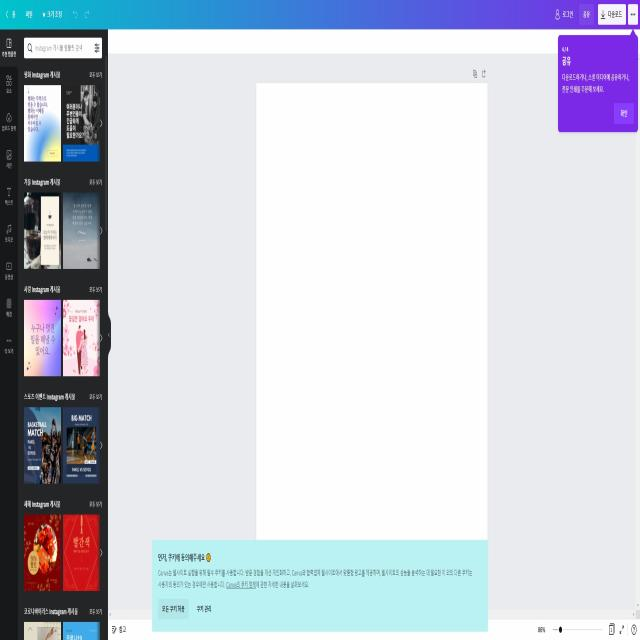menu-bar: (552, 2, 638, 26)
search: (22, 34, 104, 60)
tab-bar: (3, 2, 95, 23)
